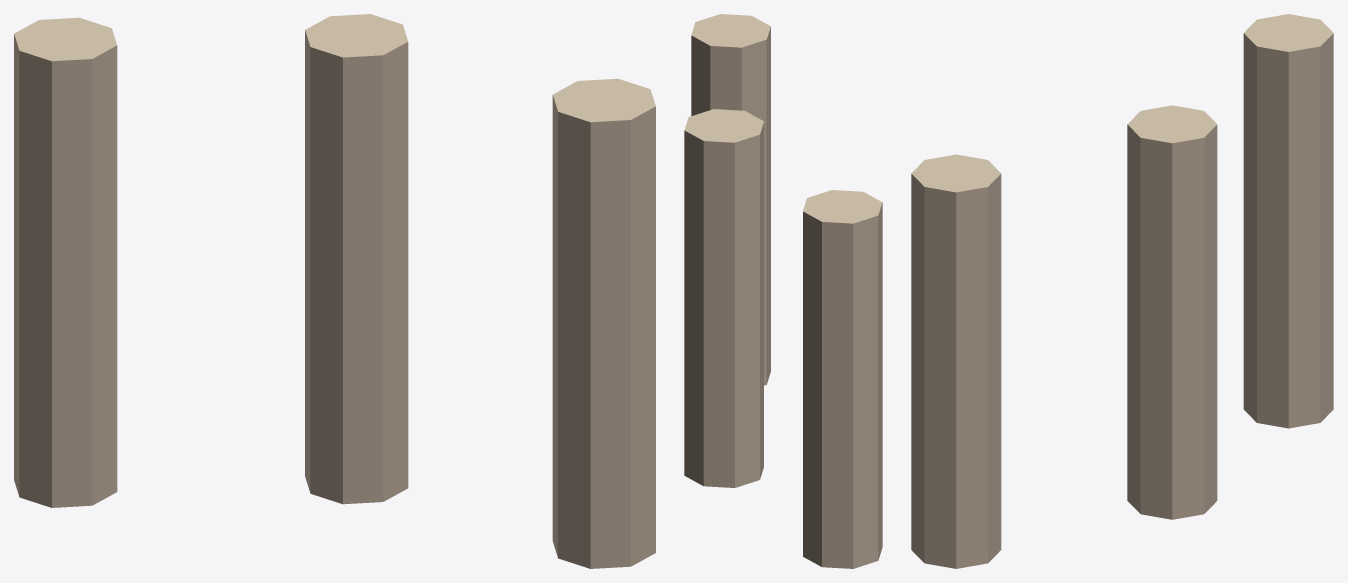
Rendered from Prop_Docks_Corner_Supports.glb.
3 renders of one model, left to right at view 1: azimuth 30°, elevation 25°; view 2: azimuth 150°, elevation 25°; view 3: azimuth 270°, elevation 25°, orthographic. The views are drawn at different scales.
Visible parts, largest first — view 1: object1, object2, object3; view 2: object2, object3, object1; view 3: object1, object3, object2.
Part boxes in pixels (x1,y1,x2,y2): object1: (552,78,655,568); object2: (305,14,408,504); object3: (14,17,117,507); object2: (684,109,763,487); object3: (803,190,882,568); object1: (691,14,770,385); object1: (911,154,1001,568); object3: (1243,14,1333,428); object2: (1127,105,1217,519).
Bounding box in the file's own units: 1.02 × 1 × 1.02.
